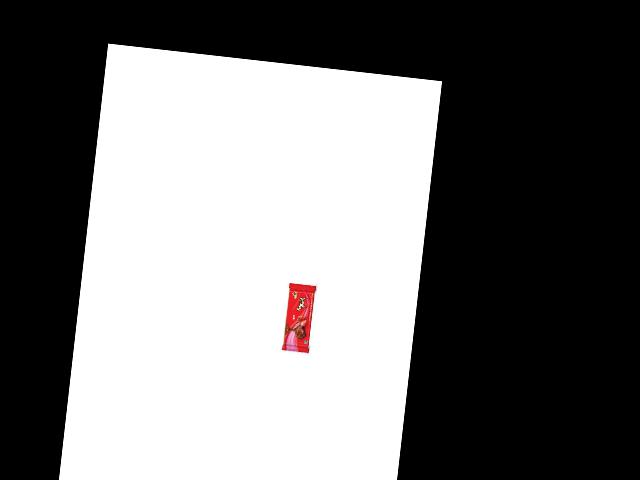chocolate: (282, 277, 321, 354)
